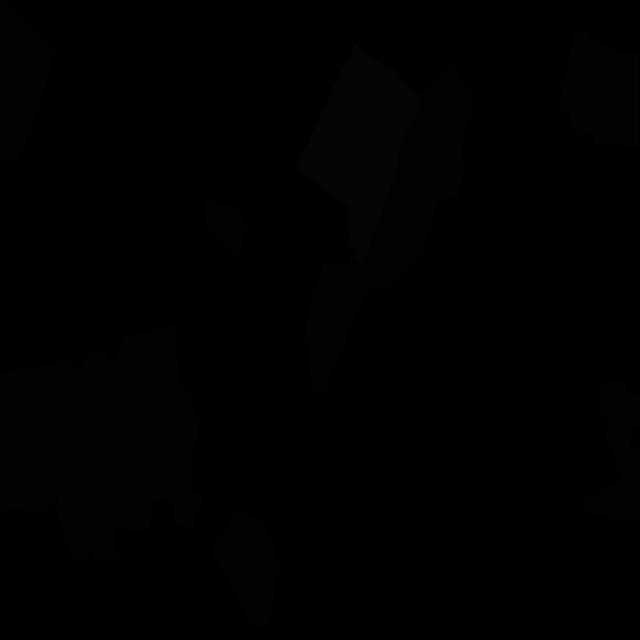cardboard: (305, 64, 473, 391), (0, 324, 181, 512), (56, 372, 199, 560), (559, 28, 639, 151), (0, 0, 54, 160), (212, 507, 278, 631), (585, 377, 640, 521), (204, 195, 245, 257), (173, 489, 204, 531)
soft_plastic: (296, 45, 422, 263)
